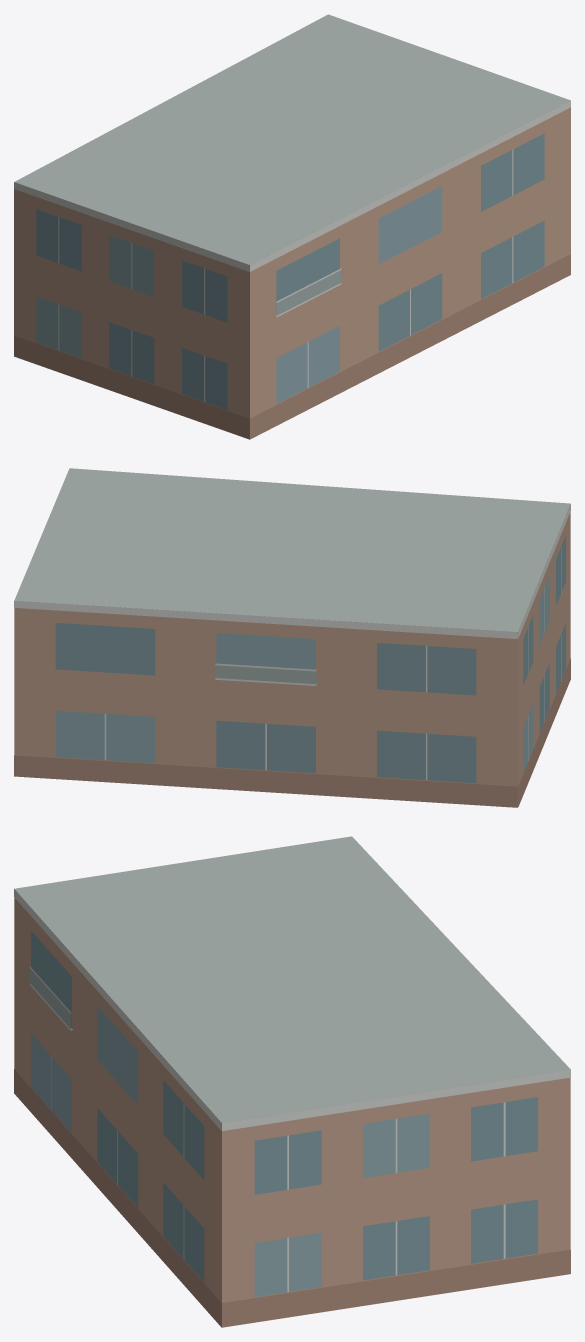
Rendered from survey-upis-32857765.glb.
3 views of the same model, one above another, from view 1: azimuth 30°, elevation 25°; view 2: azimuth 150°, elevation 25°; view 3: azimuth 270°, elevation 25° (orthographic). The views are drawn at different scales.
Visible parts, largest first — view 1: survey-upis-32857765.tmp; view 2: survey-upis-32857765.tmp; view 3: survey-upis-32857765.tmp.
Part boxes in pixels (box(x1,y1,x2,y2)): survey-upis-32857765.tmp: box(14, 14, 570, 439); survey-upis-32857765.tmp: box(14, 468, 570, 807); survey-upis-32857765.tmp: box(14, 836, 570, 1327).
Bounding box in the file's own units: 18.35 × 6.1 × 15.05.
